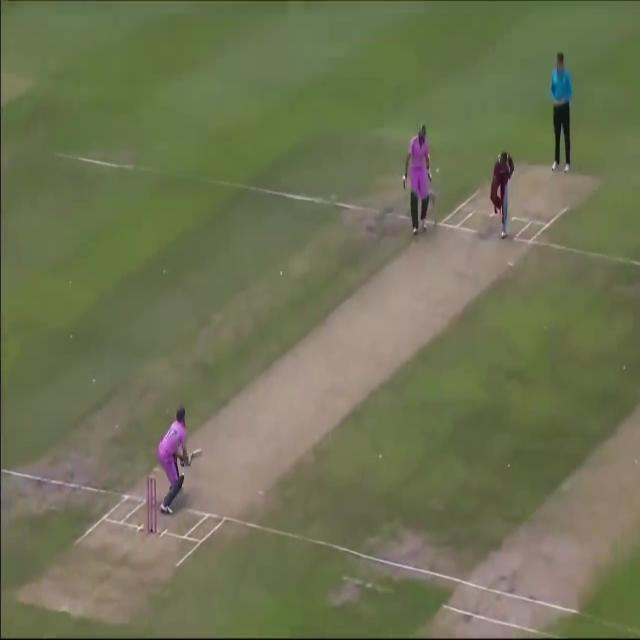Ball: (153, 400, 200, 516), (397, 122, 441, 235)
Fielder: (487, 148, 519, 236)
Umpire: (549, 49, 575, 178)
